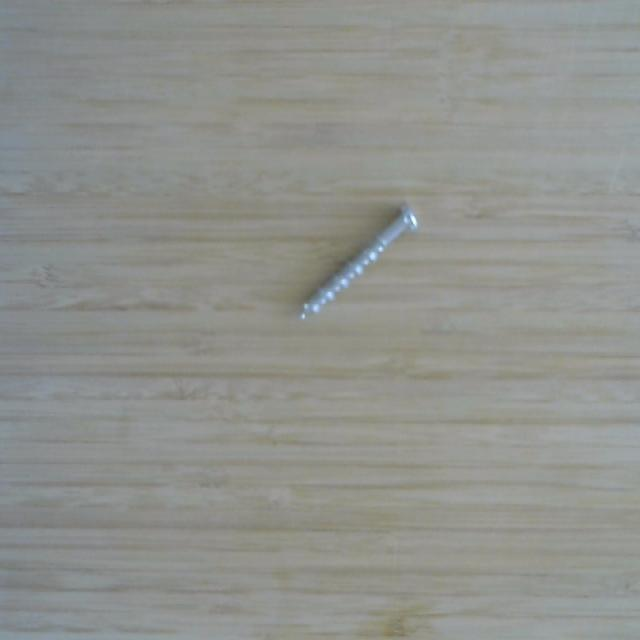Medium screw: (299, 194, 423, 325)
